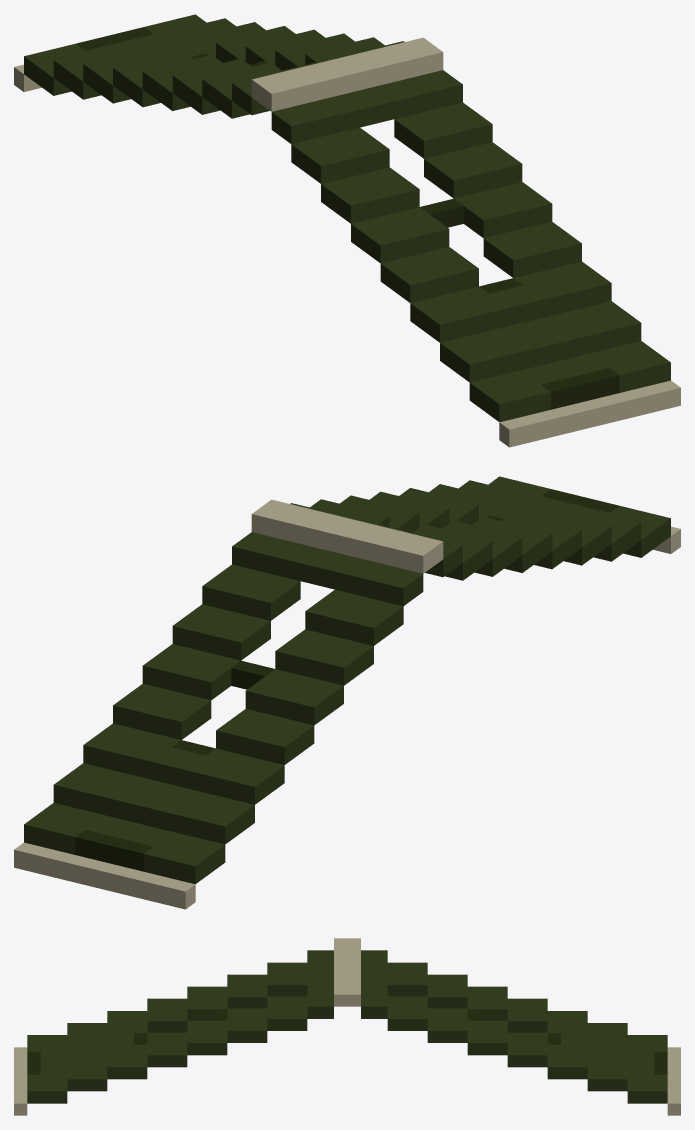
The model's file is railway_roof_02.obj.
3 views of the same model, one above another, from view 1: azimuth 30°, elevation 25°; view 2: azimuth 150°, elevation 25°; view 3: azimuth 270°, elevation 25° (orthographic). The views are drawn at different scales.
Bounding box in the file's own units: 1 × 1 × 5.
Materials: 1 (1 with a texture image).
